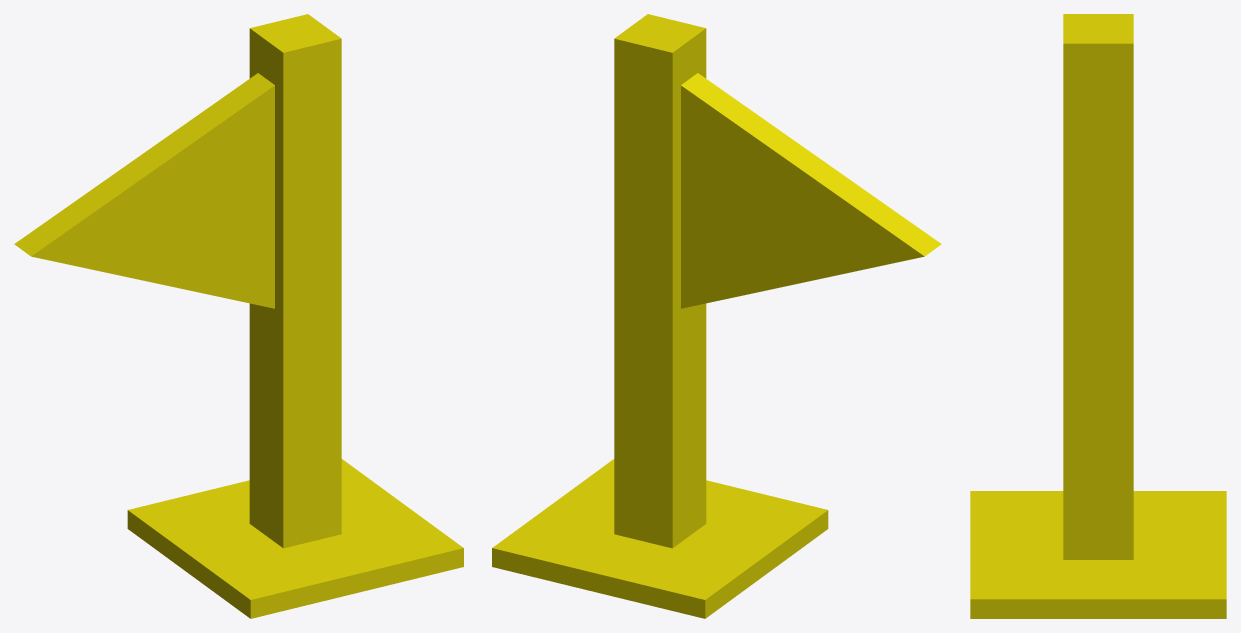
The model's file is goal.fbx.
3 renders of one model, left to right at view 1: azimuth 30°, elevation 25°; view 2: azimuth 150°, elevation 25°; view 3: azimuth 270°, elevation 25°, orthographic. The views are drawn at different scales.
Parts seen in each view (by area): view 1: Cube.003; view 2: Cube.003; view 3: Cube.003.
Part boxes in pixels (x1,y1,x2,y2): Cube.003: [14, 14, 463, 618]; Cube.003: [492, 14, 941, 618]; Cube.003: [970, 14, 1226, 618].
Size of the model in its own units: 146 by 189 by 82.02.
